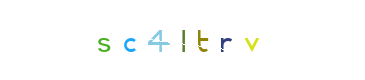4: (124, 0, 204, 80)
C: (120, 0, 200, 80)
L: (129, 0, 209, 80)
R: (184, 0, 264, 80)
S: (89, 0, 169, 80)
T: (142, 0, 222, 80)
V: (211, 0, 291, 80)
